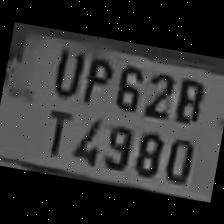0: (158, 129, 198, 187)
2: (138, 64, 176, 120)
4: (65, 108, 106, 166)
6: (108, 57, 144, 112)
8: (128, 124, 166, 178)
9: (97, 118, 136, 172)
B: (168, 70, 208, 126)
P: (75, 50, 116, 110)
T: (35, 99, 76, 156)
U: (45, 41, 86, 100)
